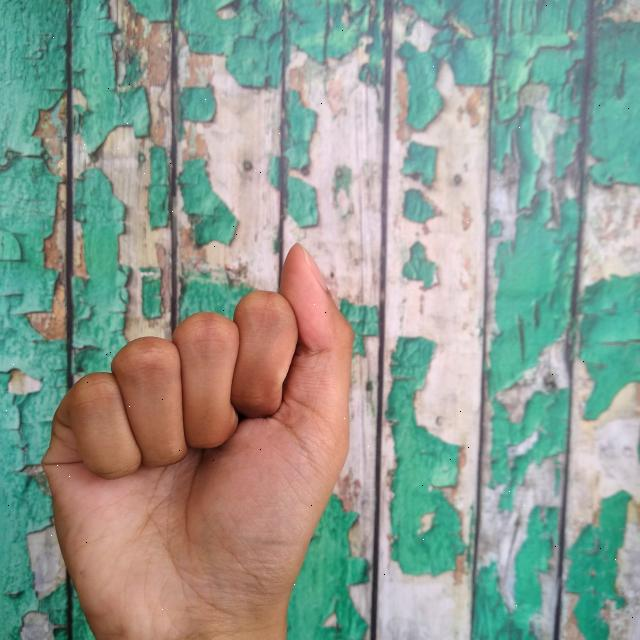A: (34, 230, 366, 640), (31, 233, 362, 640)
